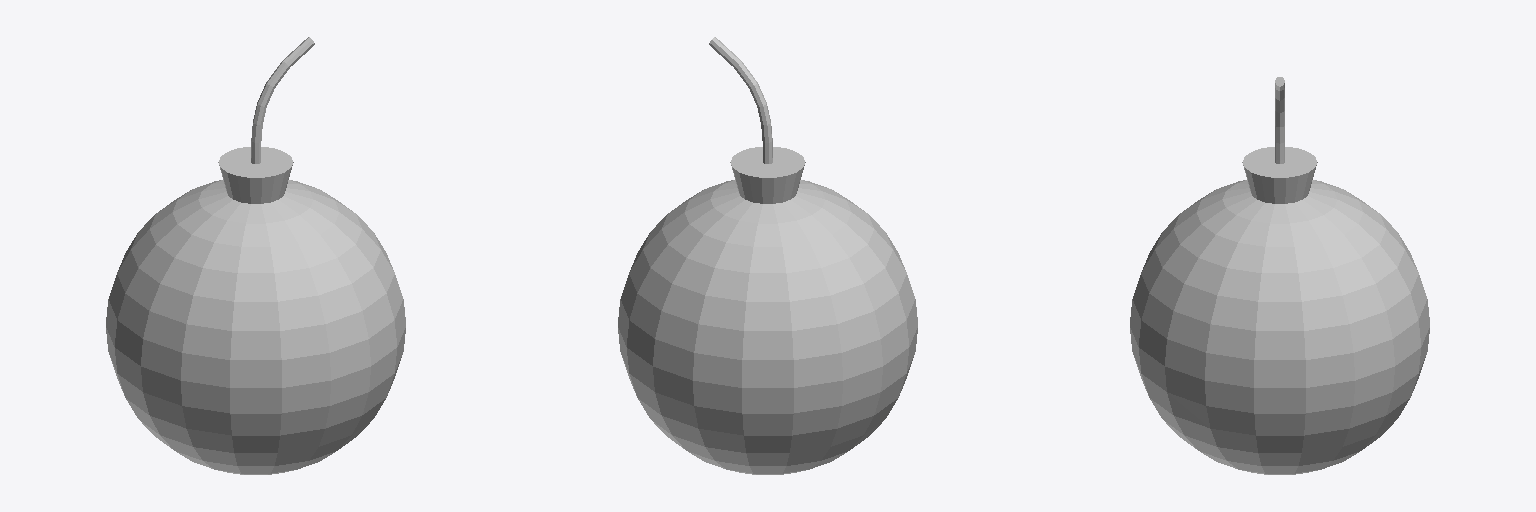
File: Bomb.obj
3 renders of one model, left to right at view 1: azimuth 30°, elevation 25°; view 2: azimuth 150°, elevation 25°; view 3: azimuth 270°, elevation 25°, orthographic.
Size of the model in its own units: 0.2818 by 0.432 by 0.2861.